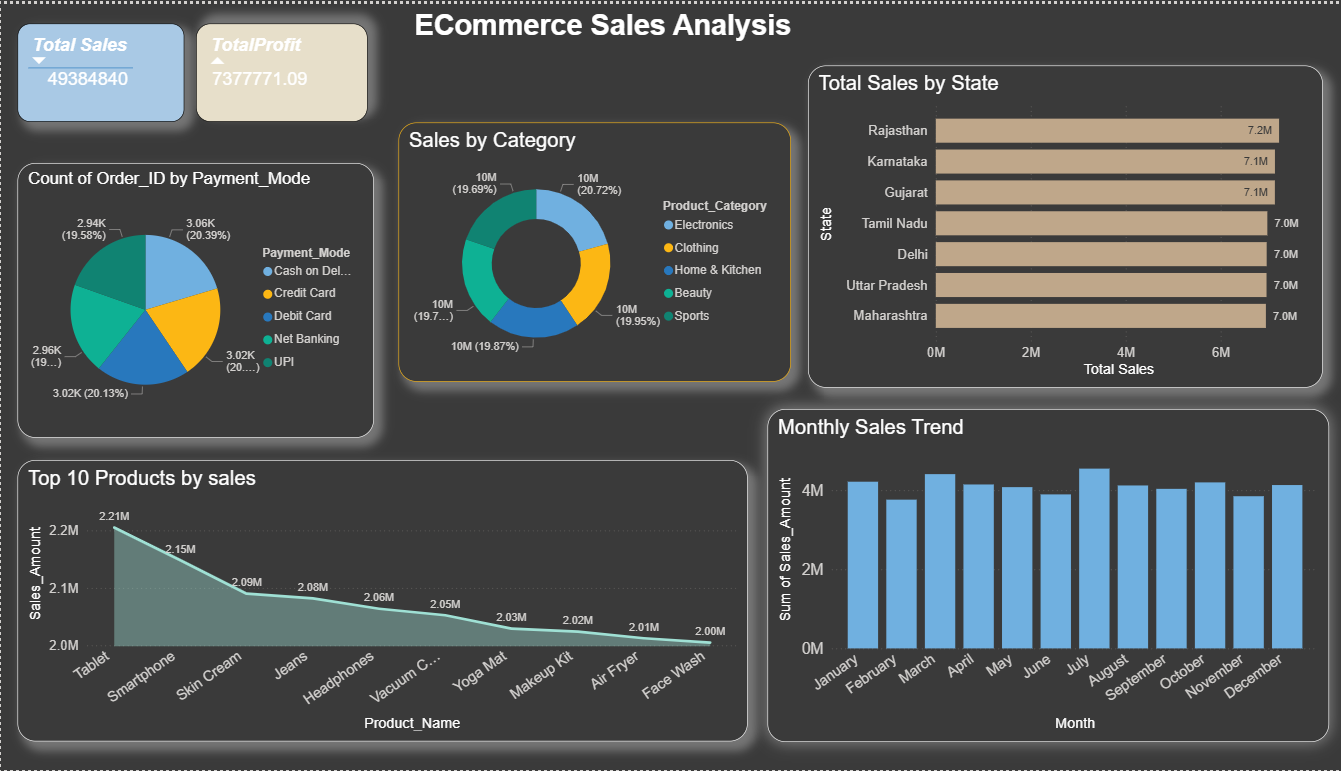

This screenshot's page, from the dashboard's own definition file:
{"tool":"powerbi","page":{"name":"Page 1","canvas":[1490,851],"ordinal":0},"visuals":[{"type":"tableEx","fields":{"Values":["Sum(ecommerce_sales_dataset_15000_r.Sales_Amount)"]},"box":[18.5,22.2,185.2,109.3],"z":0},{"type":"tableEx","fields":{"Values":["Sum(ecommerce_sales_dataset_15000_r.Profit)"]},"box":[216.7,22.2,190.7,109.3],"z":1},{"type":"donutChart","title":"Sales by Category","fields":{"Category":["ecommerce_sales_dataset_15000_r.Product_Category"],"Y":["Sum(ecommerce_sales_dataset_15000_r.Sales_Amount)"]},"box":[442.6,194.4,435.2,287],"z":2},{"type":"clusteredBarChart","fields":{"Category":["ecommerce_sales_dataset_15000_r.State"],"Y":["Sum(ecommerce_sales_dataset_15000_r.Sales_Amount)"]},"box":[918.5,77.8,572.2,357.4],"z":3},{"type":"lineChart","title":"Top 10 Products by sales","fields":{"Category":["ecommerce_sales_dataset_15000_r.Product_Name"],"Y":["Sum(ecommerce_sales_dataset_15000_r.Sales_Amount)"]},"box":[18.5,507.4,811.1,313],"z":4},{"type":"clusteredColumnChart","title":"Monthly Sales Trend","fields":{"Category":["ecommerce_sales_dataset_15000_r.Order_Date.Variation.Date Hierarchy.Month"],"Y":["Sum(ecommerce_sales_dataset_15000_r.Sales_Amount)"]},"box":[877.8,446.3,613,405.6],"z":5},{"type":"pieChart","fields":{"Category":["ecommerce_sales_dataset_15000_r.Payment_Mode"],"Y":["CountNonNull(ecommerce_sales_dataset_15000_r.Order_ID)"]},"box":[18.5,175.9,396.3,305.6],"z":6},{"type":"textbox","box":[442.6,0,616.7,77.8],"z":7}]}

Visuals, with their boxes in screenshot pixels (x1, y1, x2, y2), scaled from the page's 1490x851 canvas onto the 1341x771 screenshot:
tableEx - Sum(ecommerce_sales_dataset_15000_r.Sales_Amount): bbox(17, 20, 183, 119)
tableEx - Sum(ecommerce_sales_dataset_15000_r.Profit): bbox(195, 20, 367, 119)
"Sales by Category" donutChart: bbox(398, 176, 790, 436)
clusteredBarChart - ecommerce_sales_dataset_15000_r.State x Sum(ecommerce_sales_dataset_15000_r.Sales_Amount): bbox(827, 70, 1340, 394)
"Top 10 Products by sales" lineChart: bbox(17, 460, 747, 743)
"Monthly Sales Trend" clusteredColumnChart: bbox(790, 404, 1340, 770)
pieChart - ecommerce_sales_dataset_15000_r.Payment_Mode x CountNonNull(ecommerce_sales_dataset_15000_r.Order_ID): bbox(17, 159, 373, 436)
textbox: bbox(398, 0, 953, 70)
